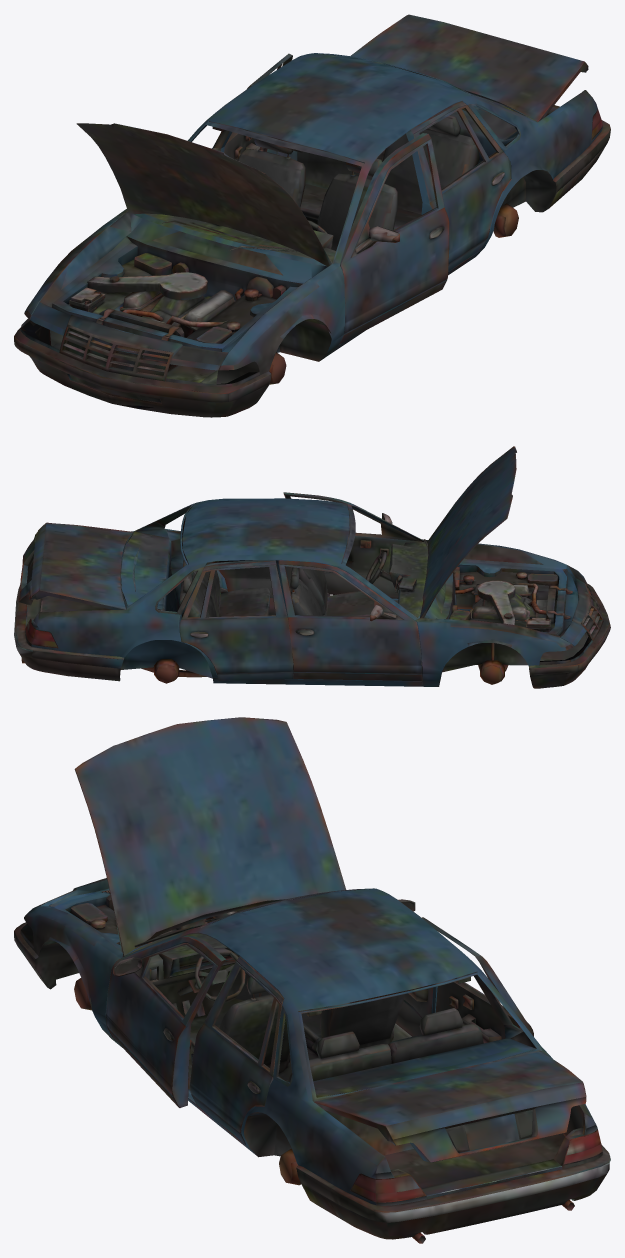
The model's file is car_wreck.glb.
3 renders of one model, top to bottom at view 1: azimuth 30°, elevation 25°; view 2: azimuth 150°, elevation 25°; view 3: azimuth 270°, elevation 25°, orthographic. The views are drawn at different scales.
Parts seen in each view (by area): view 1: Object_4, Object_6; view 2: Object_4, Object_6; view 3: Object_6, Object_4.
Boxes of the visible parts, x1,y1,x2,y2 form: Object_4: [20, 53, 602, 408]; Object_6: [14, 14, 610, 417]; Object_4: [21, 492, 603, 686]; Object_6: [14, 446, 610, 688]; Object_6: [14, 717, 610, 1239]; Object_4: [20, 878, 602, 1243].
Size of the model in its own units: 50.71 by 17.74 by 37.05.
1 material, 1 textured.
